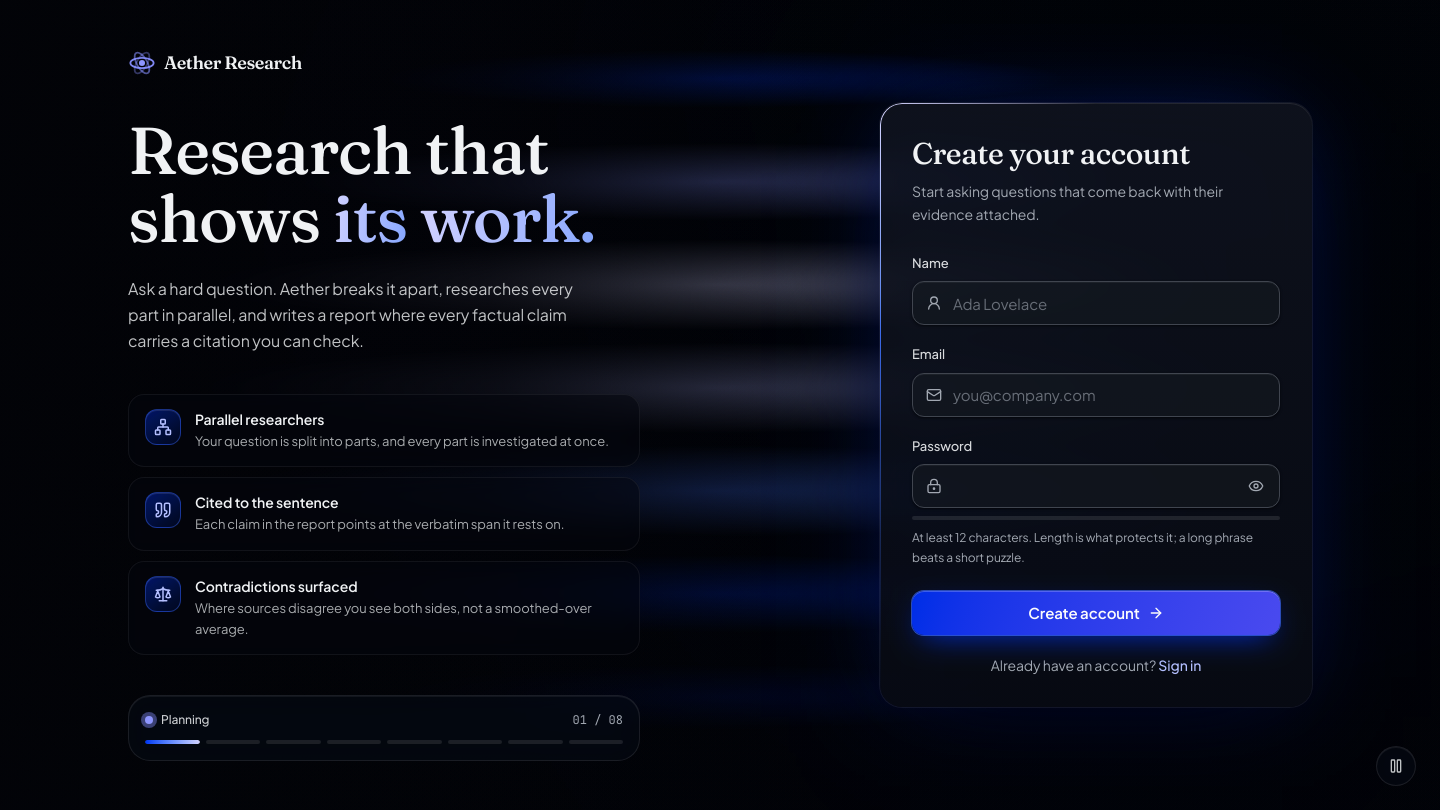
it: RegisterPage › asks the person to check their inbox when the address needs confirming
Type "ada@example.com" into the field labelled "Email" at (1096, 395), box [912,373,1280,417]
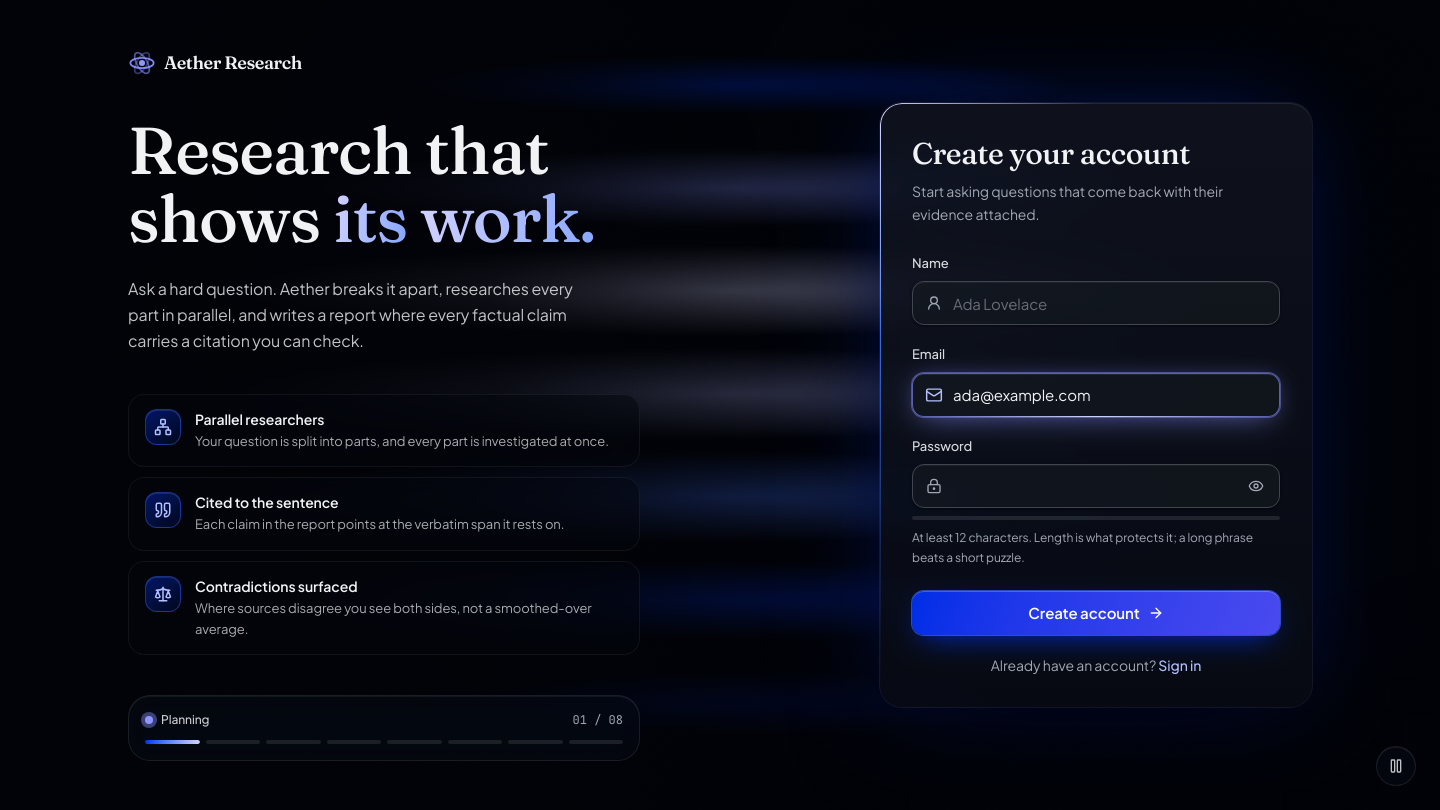
Type "correct-horse-battery-staple" into the password field labelled "Password" at (1096, 486), box [912,464,1280,508]
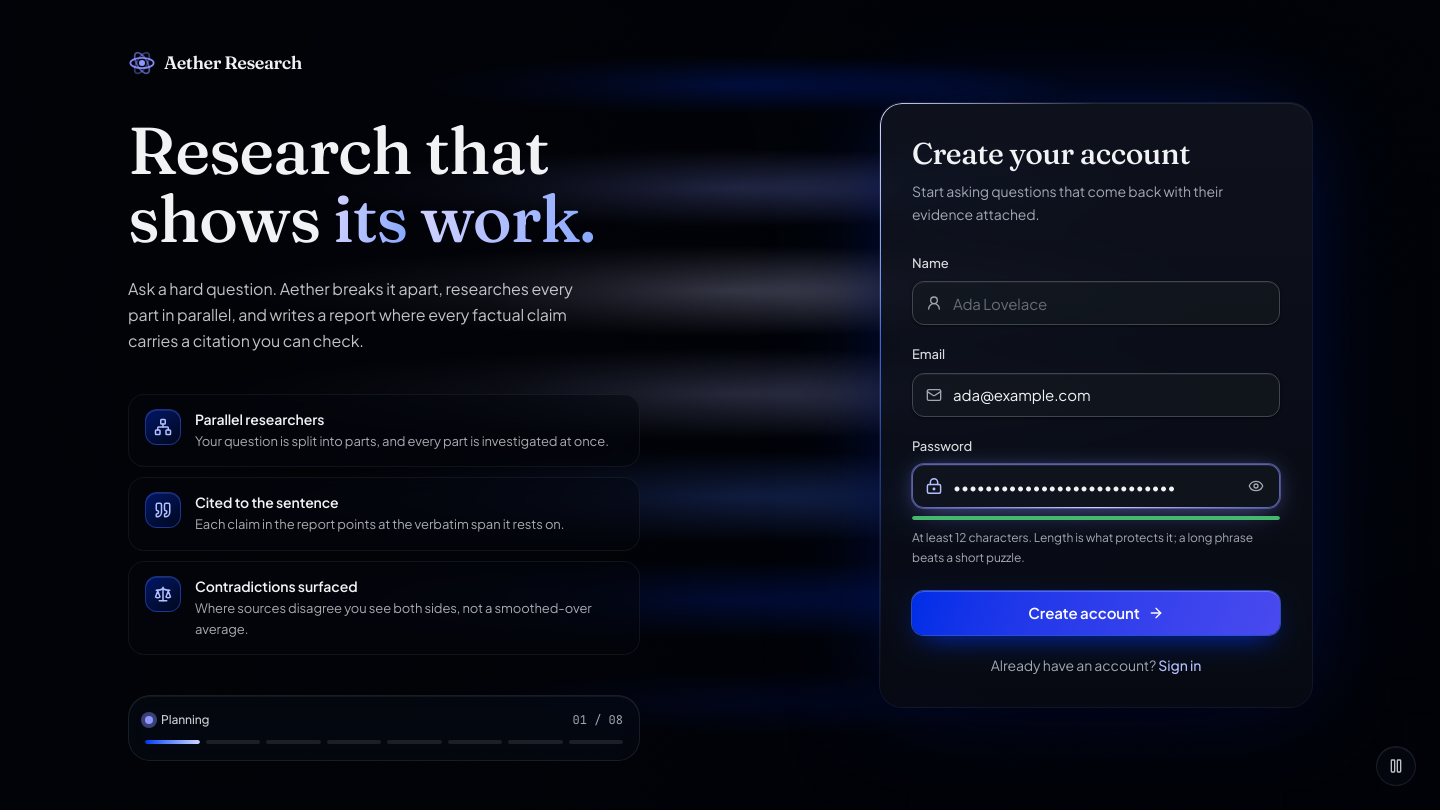
Click the button with test id "register-submit" at (1096, 613), box [912,591,1280,635]
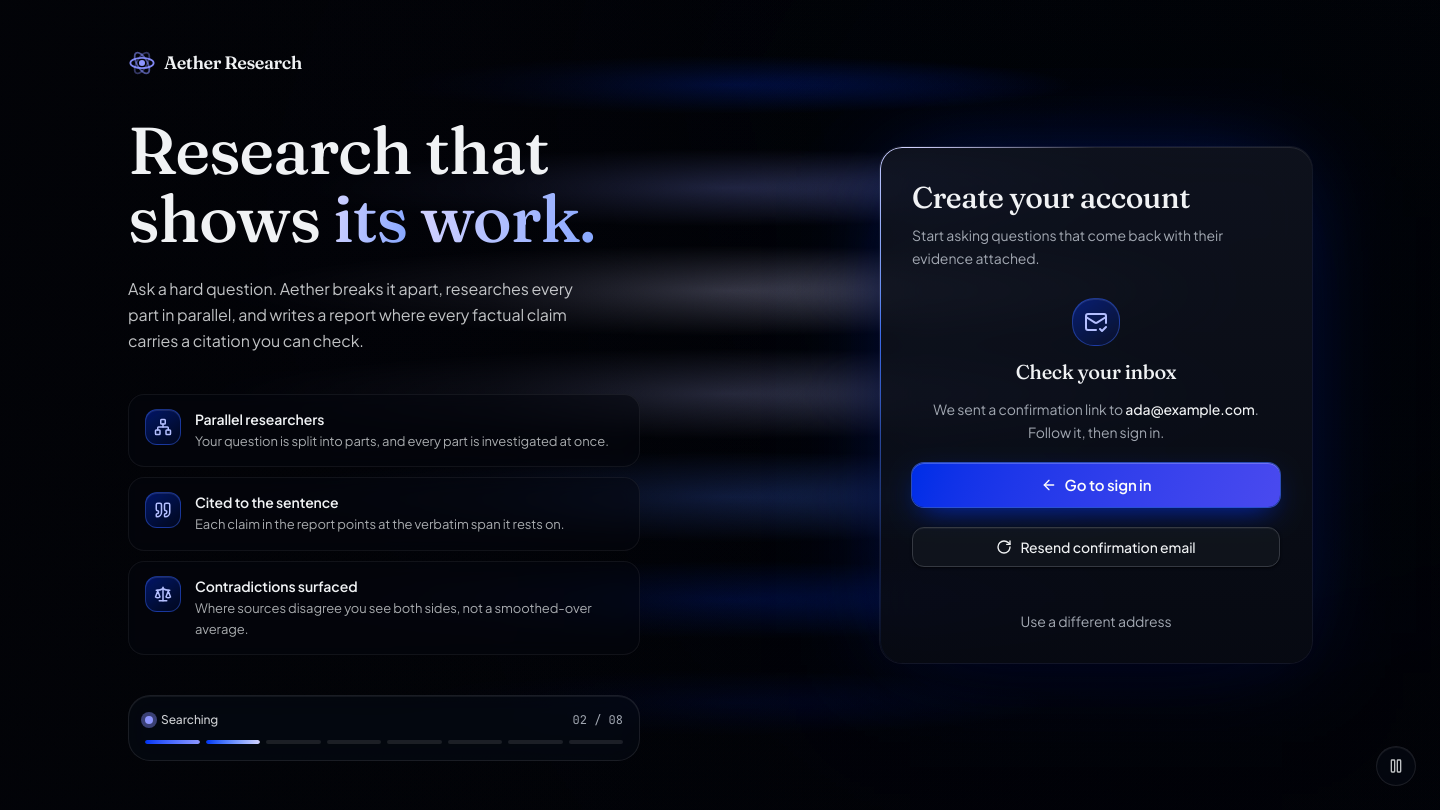
Expected: the element with test id "check-inbox" shows "Check your inbox", [1016,359,1176,384]
Expected: the element with test id "check-inbox" shows "ada@example.com", [1125,400,1255,418]
